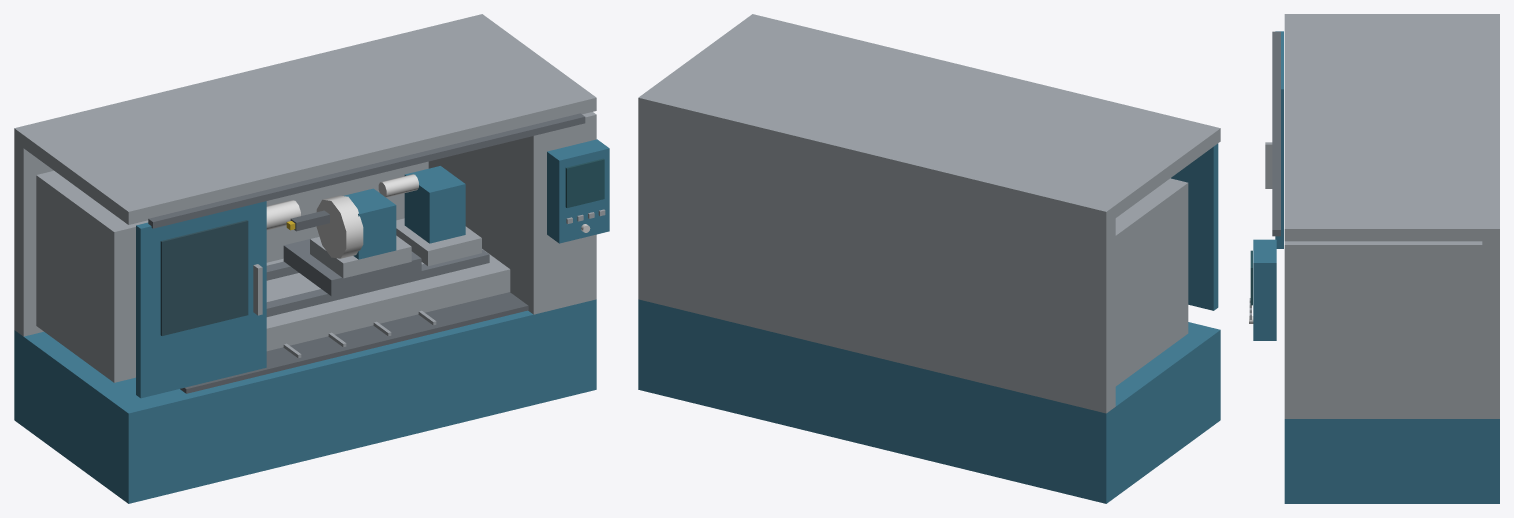
3 views of the same model, side by side, from view 1: azimuth 30°, elevation 25°; view 2: azimuth 150°, elevation 25°; view 3: azimuth 270°, elevation 25° (orthographic). The views are drawn at different scales.
Visible parts, largest first — view 1: top, base, headstock, rightCabinet, door, bed, window, rear, chipTray, doorTrack, console, tailstock (+9 smaller); view 2: rear, top, base, headstock, rightCabinet, door; view 3: top, rightCabinet, base, rear, console, doorTrack, door, handle.
Boxes of the visible parts, <box> form: top: <box>14,14,596,224</box>; base: <box>14,299,596,503</box>; headstock: <box>36,171,148,382</box>; rightCabinet: <box>428,112,596,314</box>; door: <box>136,201,266,398</box>; bed: <box>266,249,510,351</box>; window: <box>160,220,248,335</box>; rear: <box>14,132,428,336</box>; chipTray: <box>180,292,528,393</box>; doorTrack: <box>148,113,585,228</box>; console: <box>547,139,609,243</box>; tailstock: <box>404,166,465,243</box>; rear: <box>638,101,1115,413</box>; top: <box>638,14,1220,224</box>; base: <box>638,299,1220,503</box>; headstock: <box>1115,178,1188,386</box>; rightCabinet: <box>638,115,701,314</box>; door: <box>1171,143,1218,310</box>; top: <box>1284,14,1499,241</box>; rightCabinet: <box>1284,241,1499,418</box>; base: <box>1284,419,1499,503</box>; rear: <box>1482,232,1499,418</box>; console: <box>1253,239,1276,340</box>; doorTrack: <box>1272,31,1280,236</box>; door: <box>1275,31,1283,248</box>; handle: <box>1265,142,1272,188</box>.
Size of the model in its own units: 2.6 by 1.55 by 1.28.
